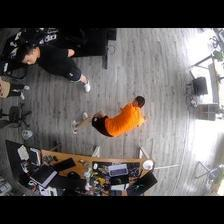fall: (74, 96, 146, 137)
normal: (17, 42, 91, 92)
